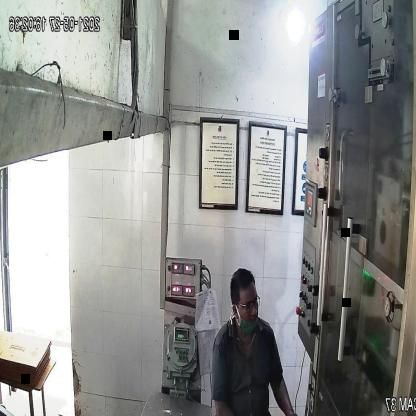goggles: (235, 292, 262, 316)
